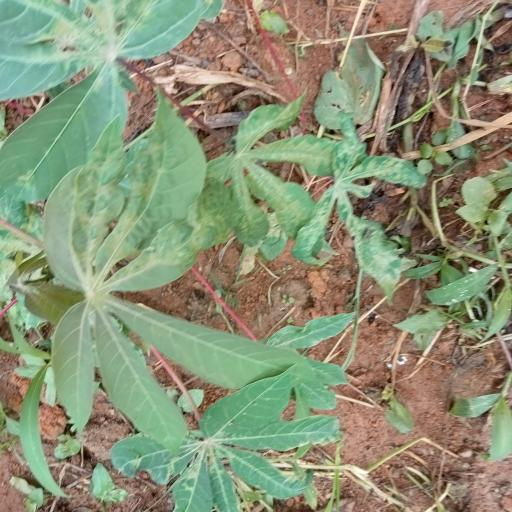Cassava_Mosaic: (48, 182, 311, 420), (0, 0, 209, 204), (299, 130, 432, 292)
